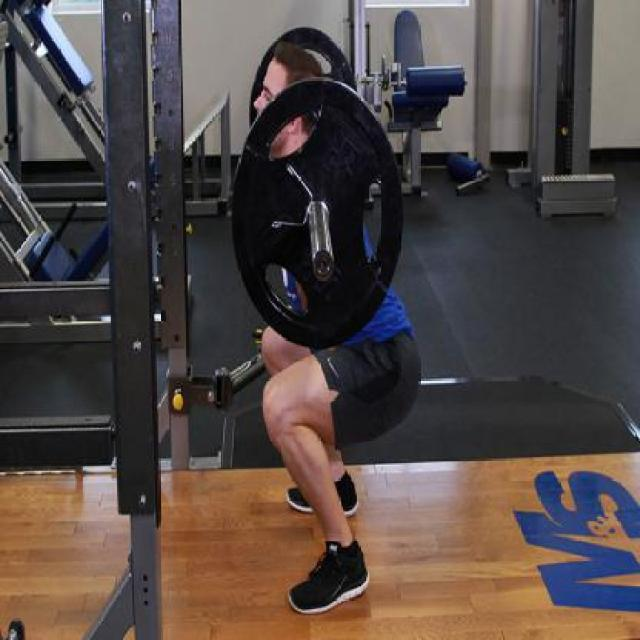Barbell: (313, 245, 335, 284)
